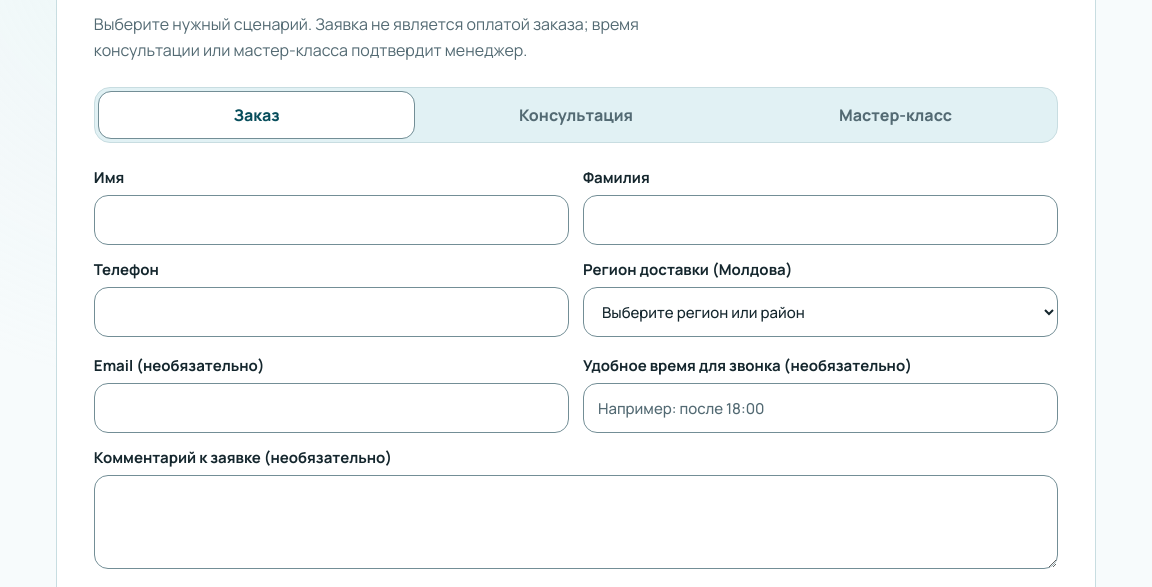
ApplicationForm › defaults to order with products and blocks duplicate submit
In the field labelled "Имя": (331,220) x1=94 y1=195 x2=569 y2=245, type "Ana"
In the field labelled "Фамилия": (821,220) x1=583 y1=195 x2=1058 y2=245, type "Popescu"
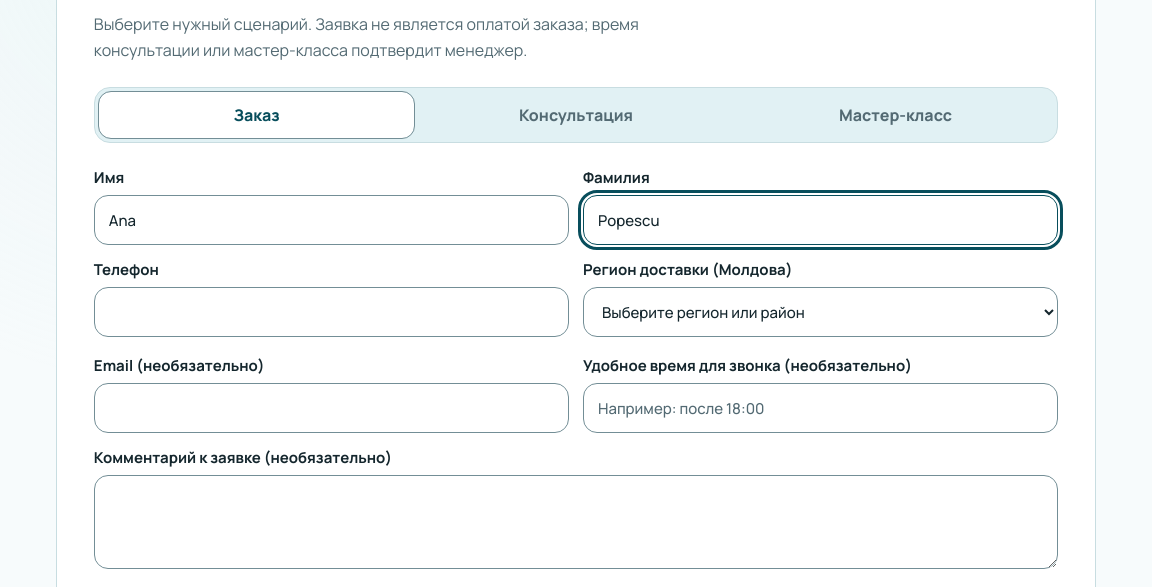
In the field labelled "Телефон": (331,312) x1=94 y1=287 x2=569 y2=337, type "069 123 456"
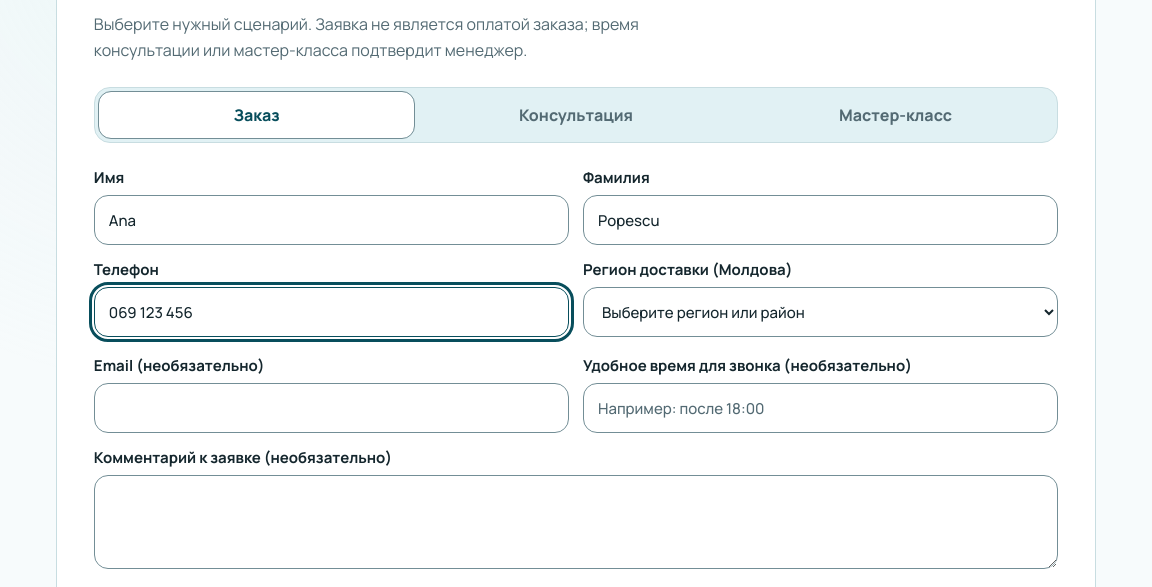
Select "Кишинёв" in the dropdown labelled "Регион доставки (Молдова)": (821,312) x1=583 y1=287 x2=1058 y2=337
(page scrolled)
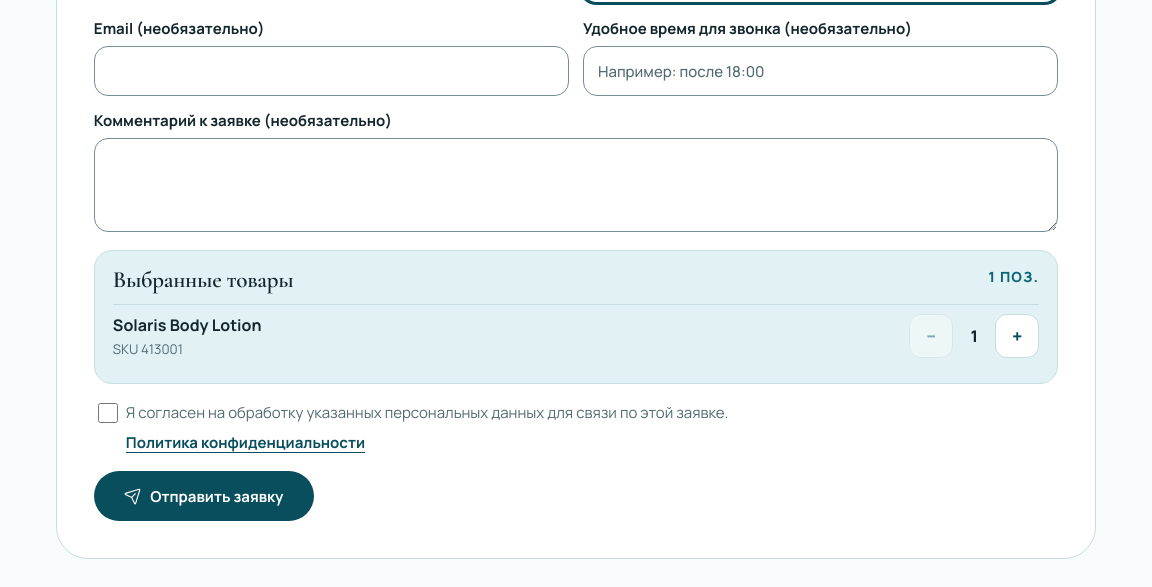
Click the checkbox: (108,413) x1=98 y1=403 x2=118 y2=423
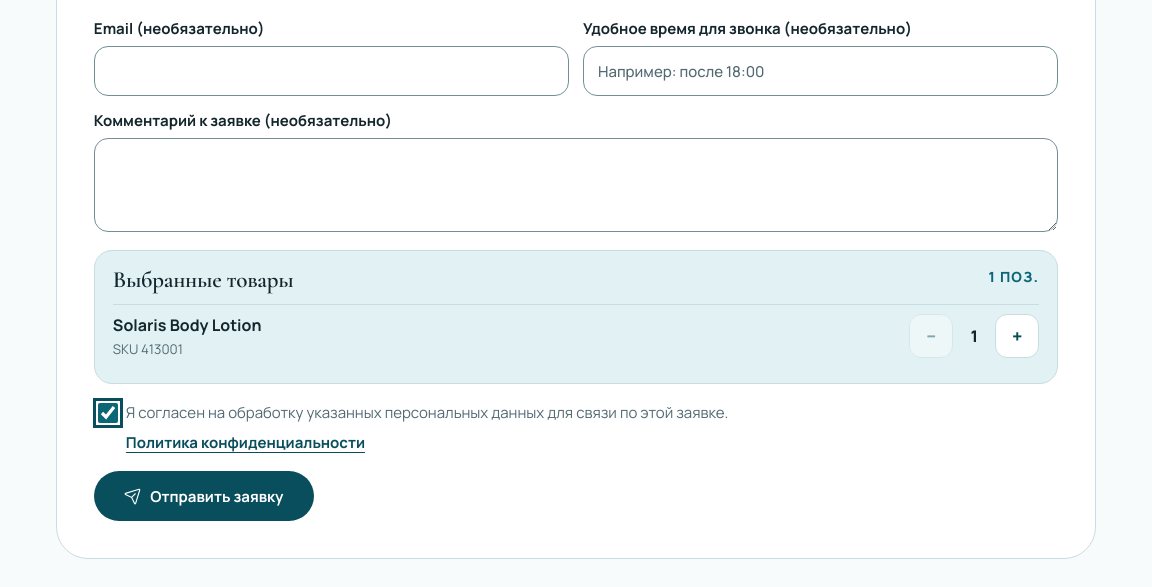
Click the button "Отправить заявку": (204,496) x1=94 y1=471 x2=314 y2=521
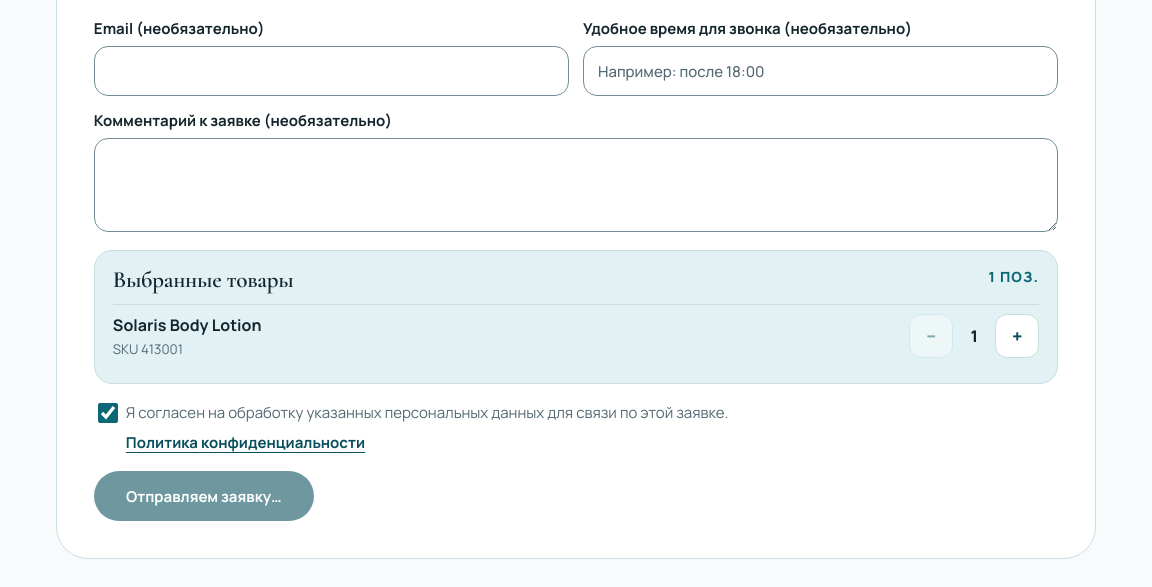
Expected: the button "Отправляем заявку…" is disabled
Click the button "Отправляем заявку…": (204,496) x1=94 y1=471 x2=314 y2=521
(page scrolled)
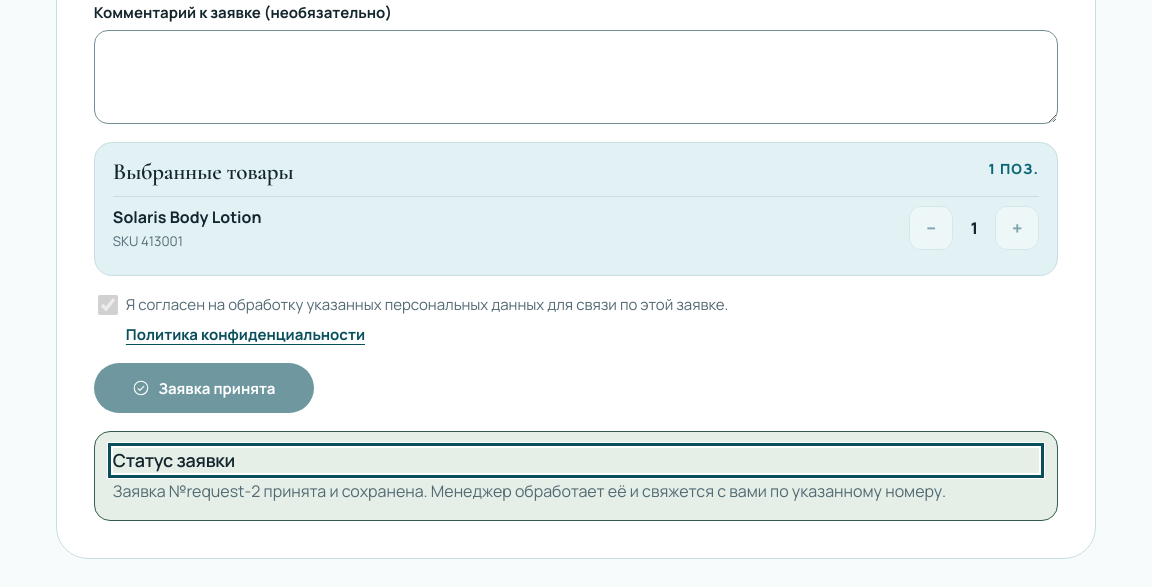
Expected: the text "Заявка №request-2 принята и сохранена" is shown, x1=113 y1=480 x2=946 y2=502
